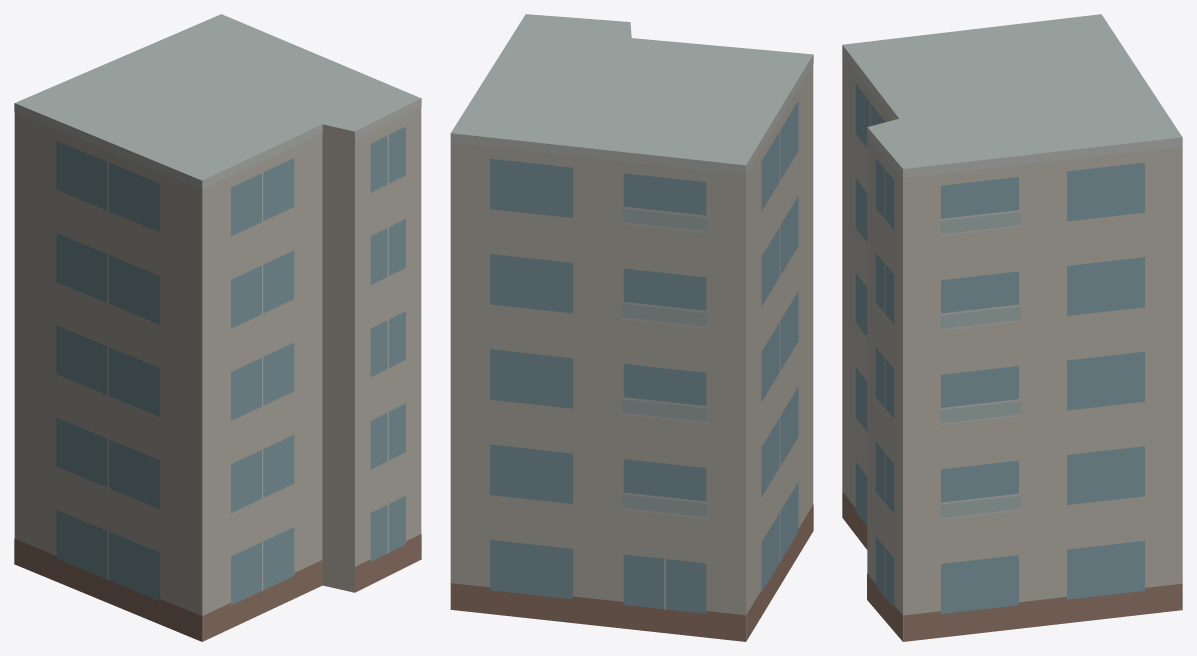
Rendered from survey-upis-32644186.glb.
The picture shows the model from 3 angles, left to right: view 1: azimuth 30°, elevation 25°; view 2: azimuth 150°, elevation 25°; view 3: azimuth 270°, elevation 25°; orthographic projection. The views are drawn at different scales.
Visible parts, largest first — view 1: survey-upis-32644186.tmp; view 2: survey-upis-32644186.tmp; view 3: survey-upis-32644186.tmp.
Boxes of the visible parts, x1,y1,x2,y2 form: survey-upis-32644186.tmp: (14, 14, 421, 641); survey-upis-32644186.tmp: (450, 14, 813, 641); survey-upis-32644186.tmp: (842, 14, 1182, 641).
Bounding box in the file's own units: 8.94 × 12.7 × 8.29.
